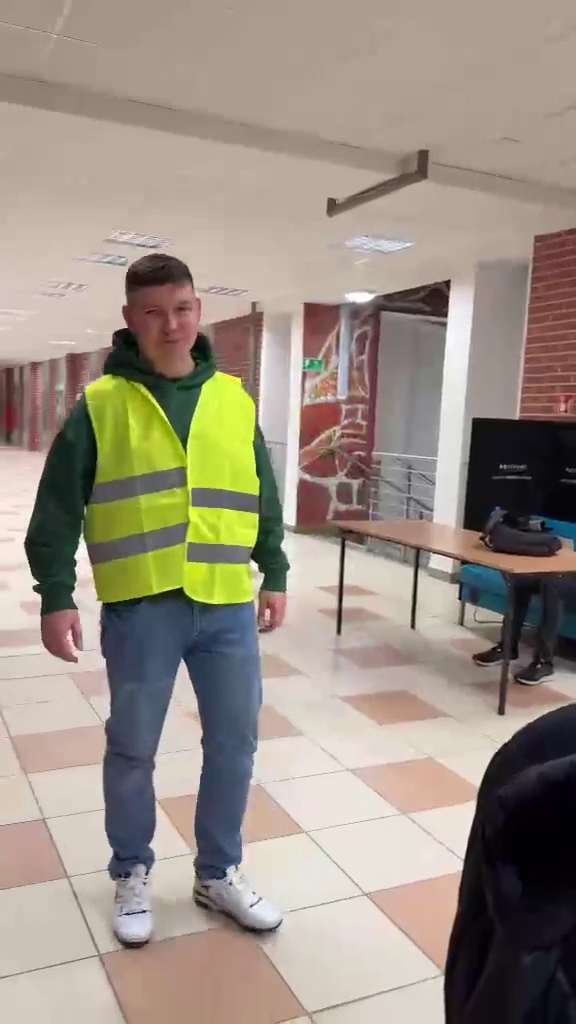vest: (33, 256, 295, 940)
